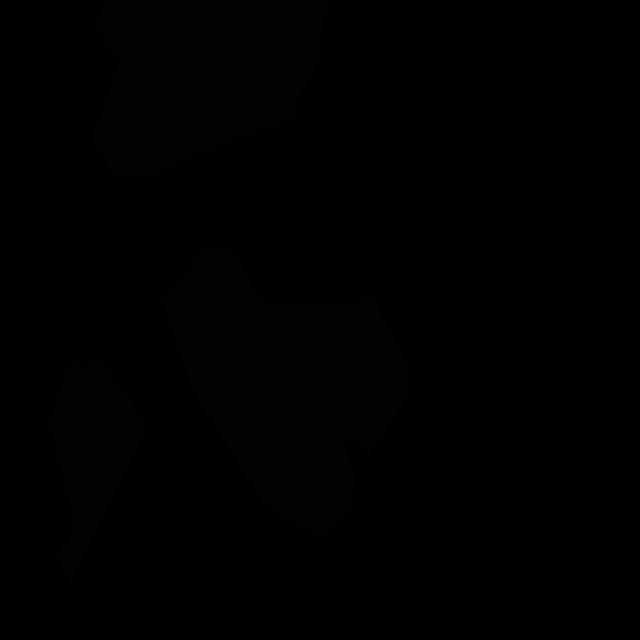cardboard: (160, 241, 412, 537), (90, 0, 325, 182), (48, 352, 143, 588)
